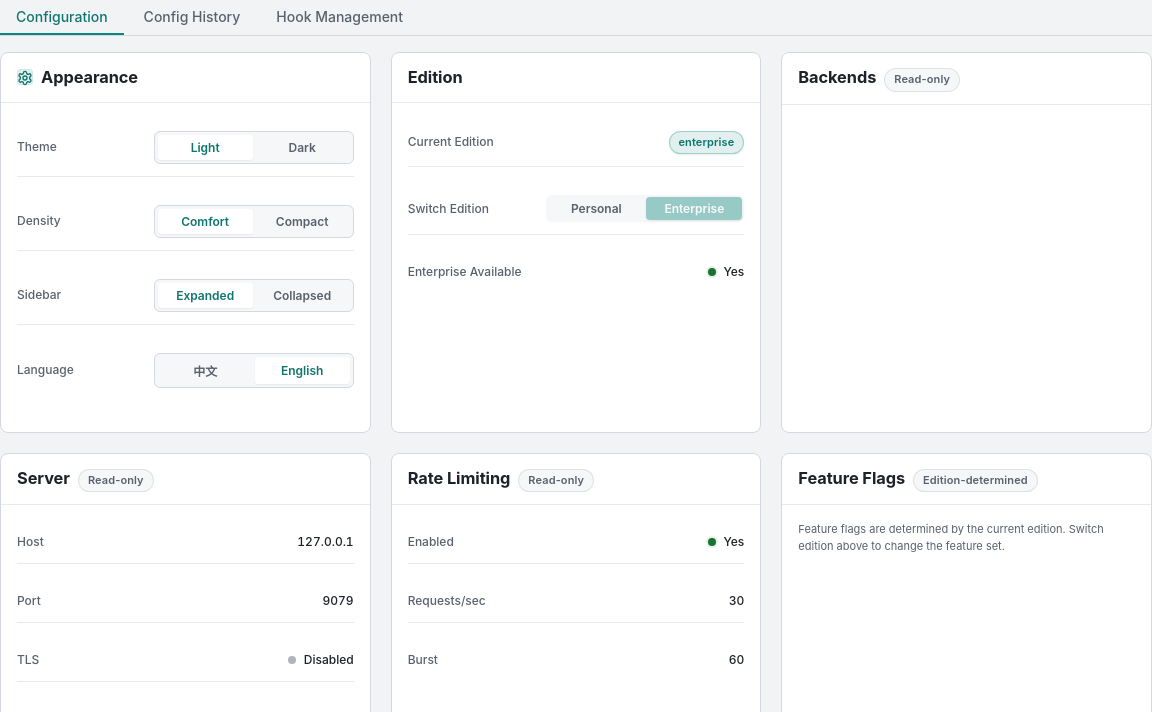
Test: Settings.vue Hook 管理 Tab › shows hooks panel when hooks tab is clicked
切到 hooks tab
Click the tab with class "settings-tab" showing "Hook Management" at [340, 18], box [260,0,419,35]
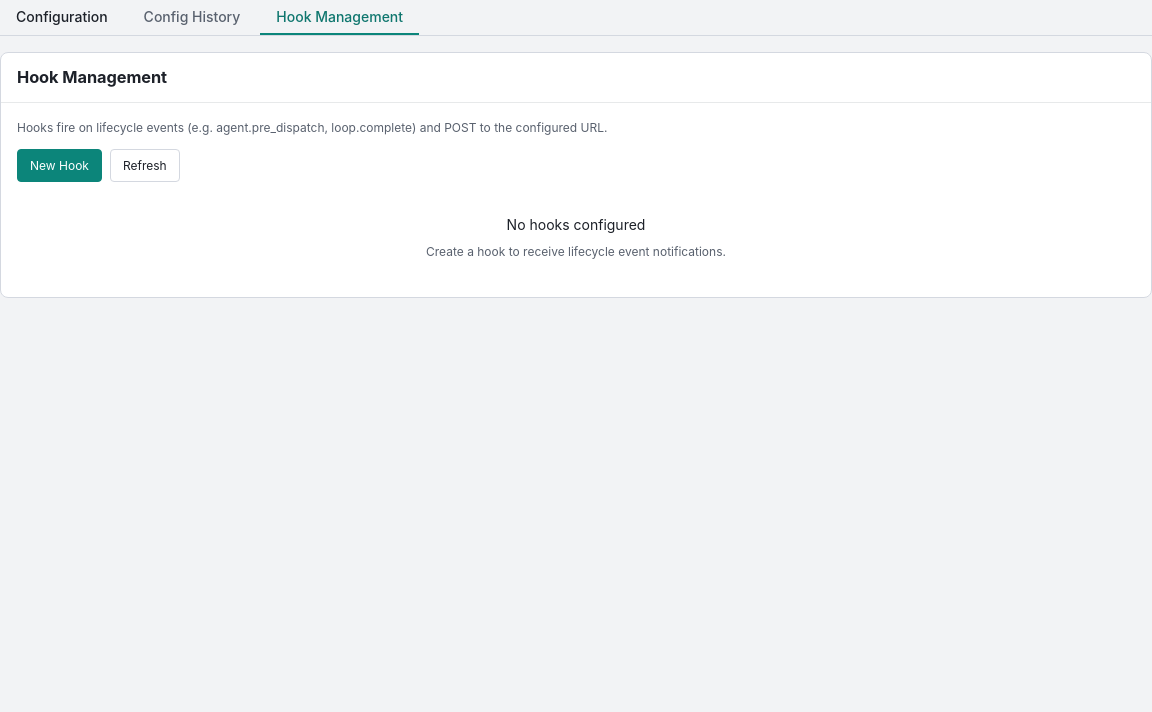
Now the element with class "hooks-panel" is shown, box [0,52,1151,298]
